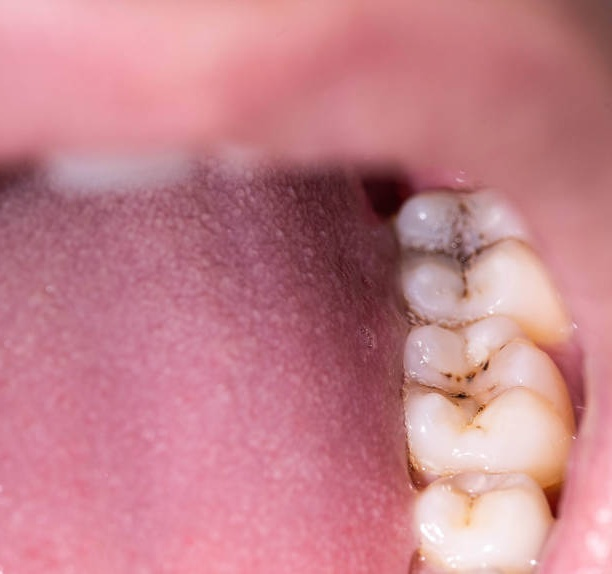Caries: (401, 202, 484, 300), (431, 349, 506, 439)
